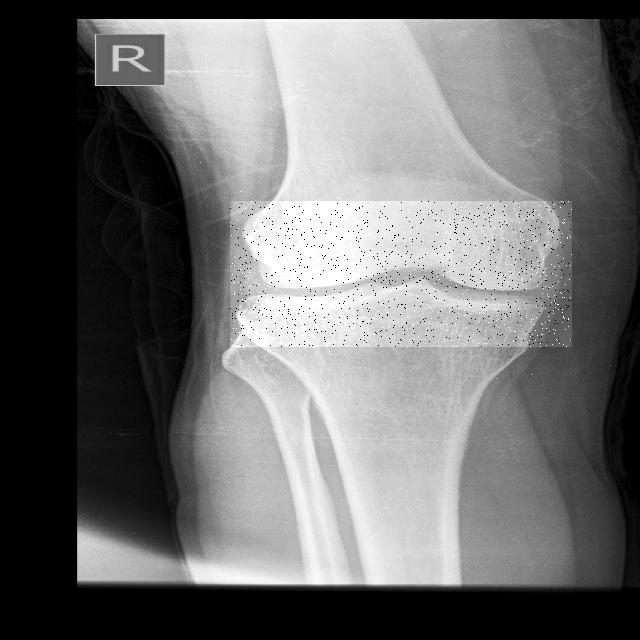osteo: (230, 201, 572, 347)
